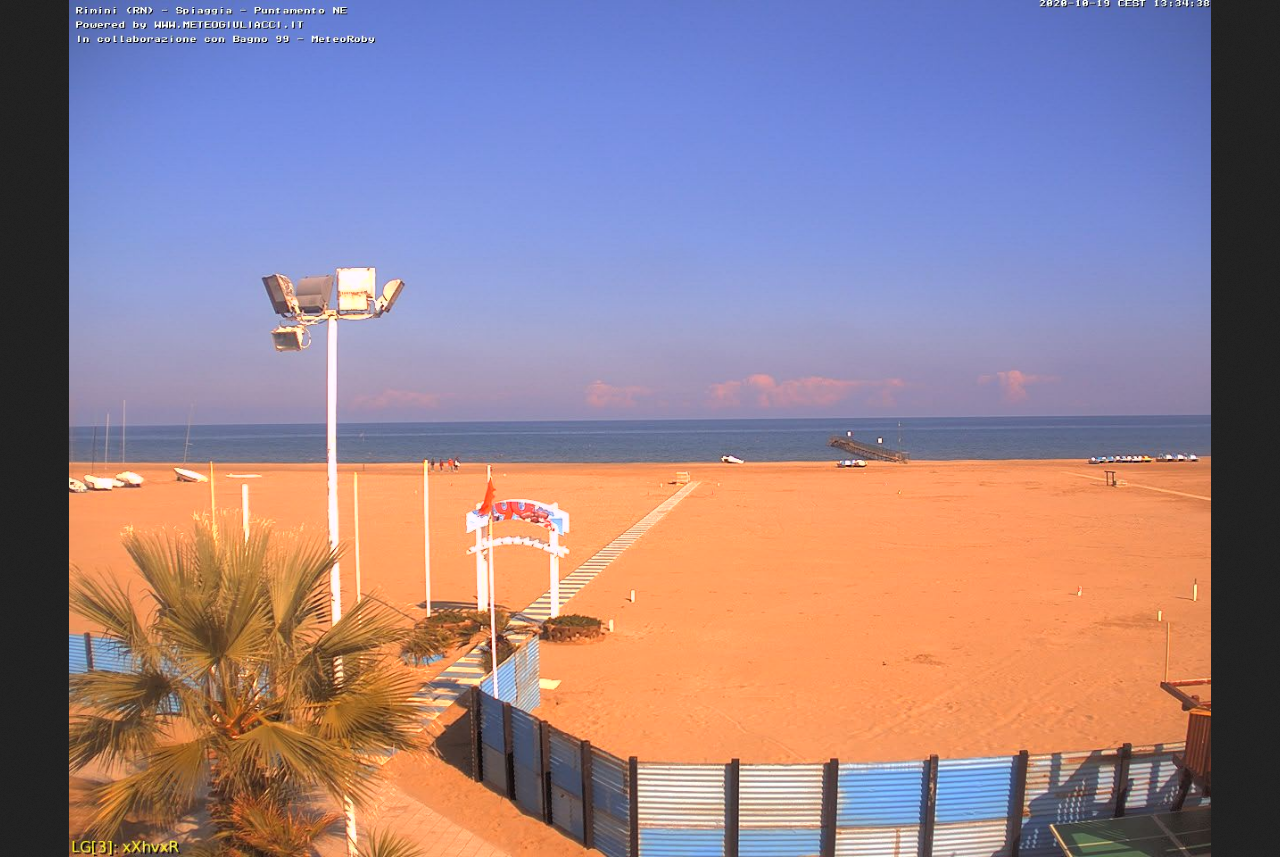no: (474, 466, 500, 521)
